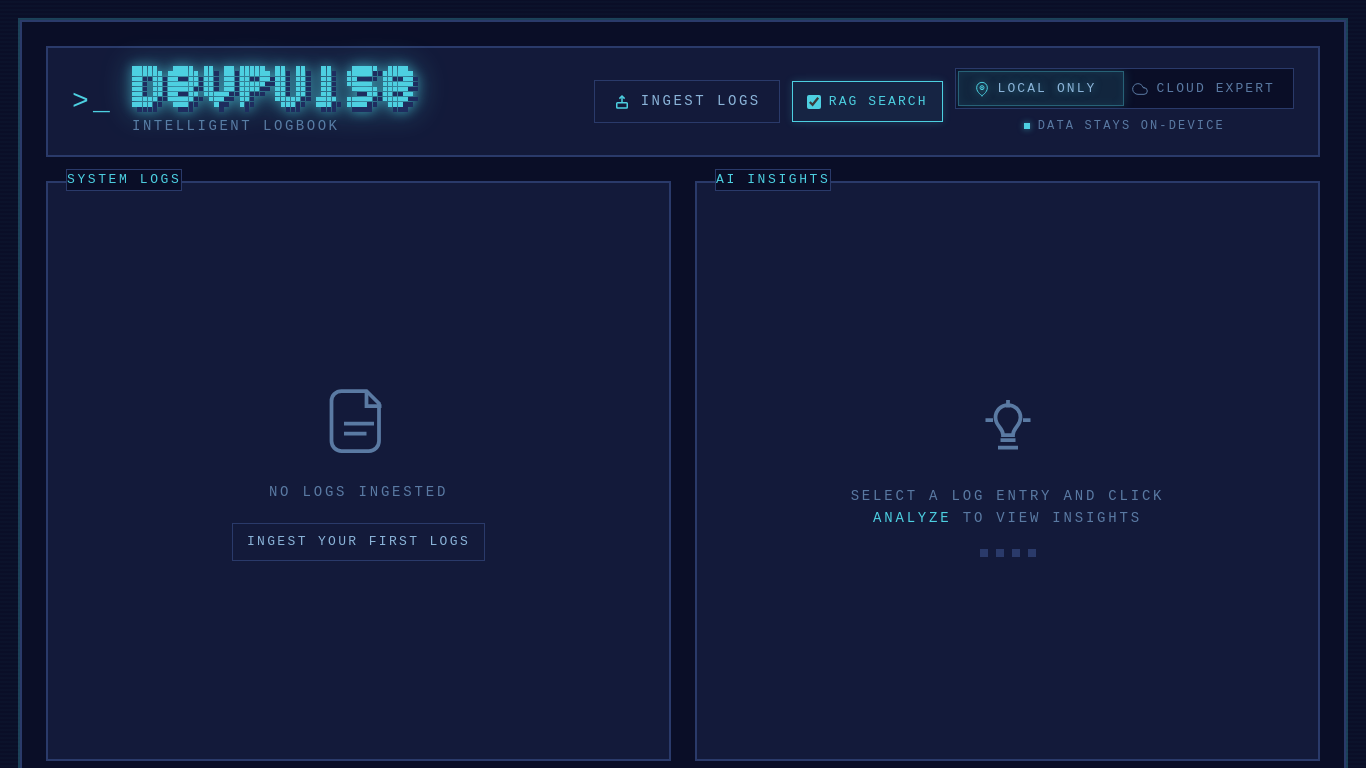
Scenario: App › ingest modal › should open ingest modal from empty state CTA
Click the button "Ingest Your First Logs".
click(358, 542)  # box [232,523,485,561]
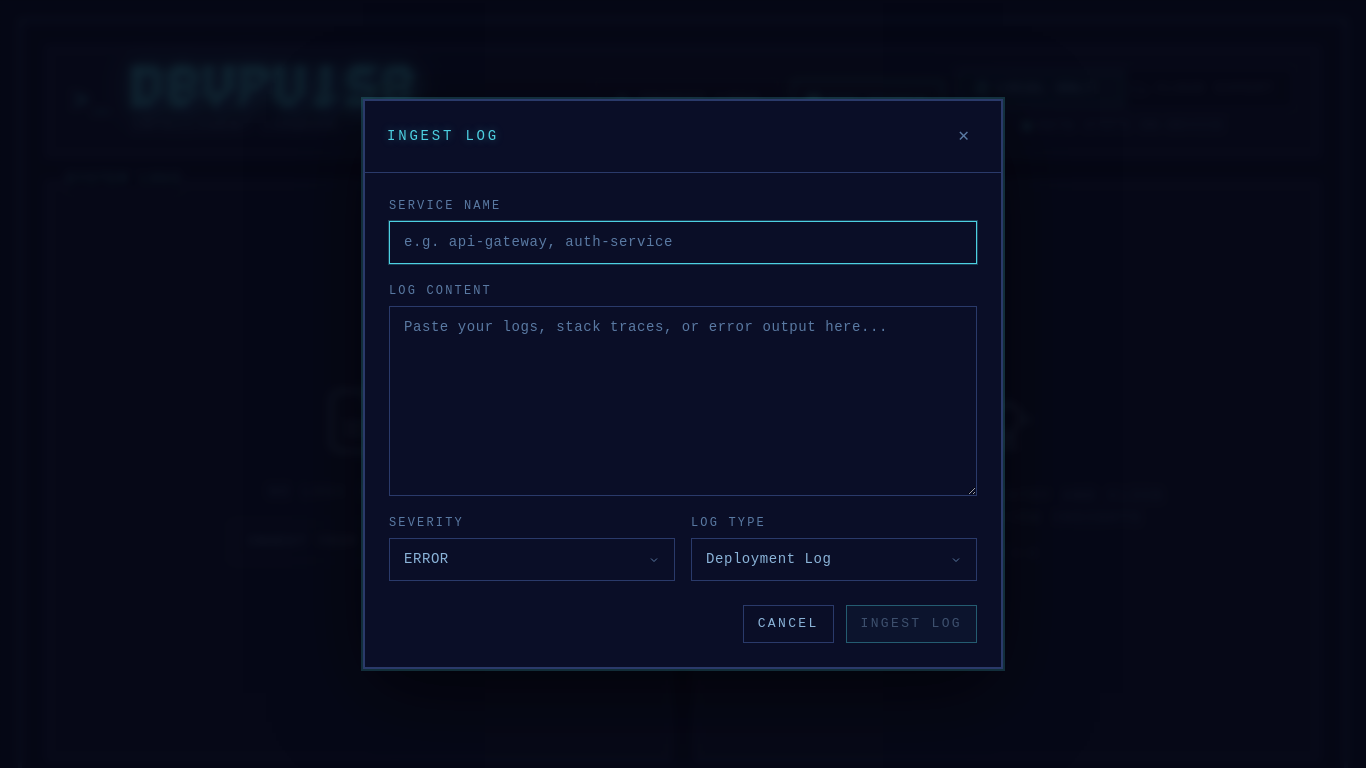
Check: the text "Service Name" is shown, box [389,199,501,213]
